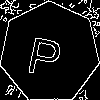P: (25, 27, 66, 79)
